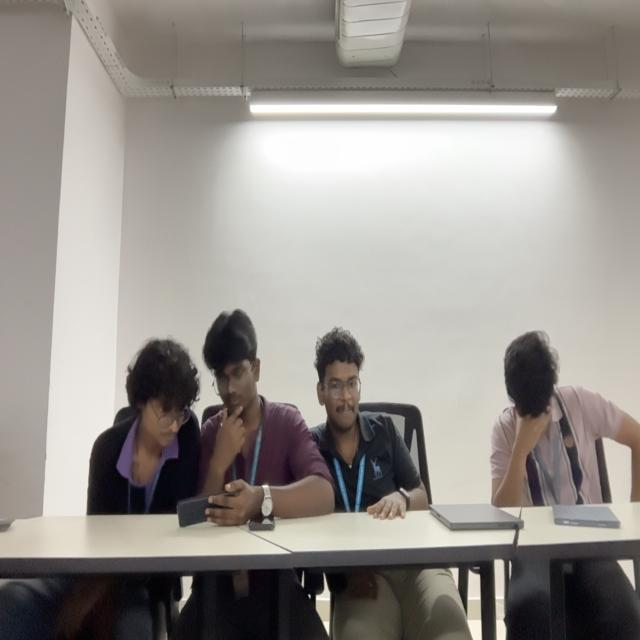Isolated: (491, 298, 632, 507)
socializing: (88, 306, 430, 528)
